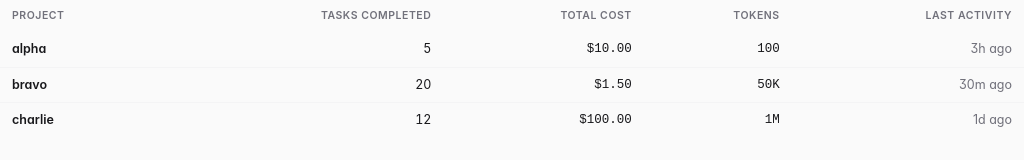
Test: ByProjectTable / sort cycle › second click on the same column sorts descending
Click the button with test id "by-project-table-header-button-project". click: (38, 16)
box: x1=12 y1=8 x2=64 y2=24
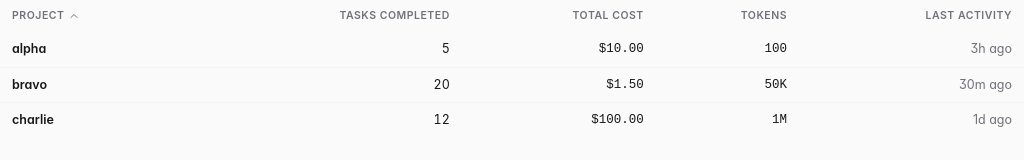
Click the button with test id "by-project-table-header-button-project". click: (46, 16)
box: x1=12 y1=8 x2=80 y2=24
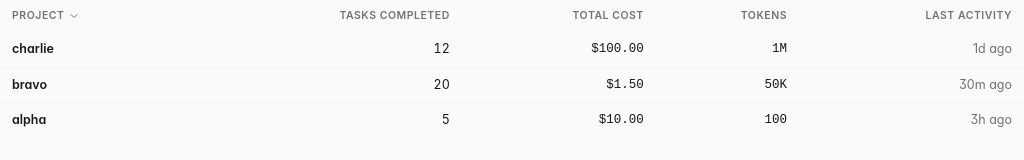
Result: the elements with test id "by-project-table-name" read "charlie", "bravo", "alpha", in this order at x1=12 y1=41 x2=54 y2=56; x1=12 y1=76 x2=47 y2=92; x1=12 y1=112 x2=46 y2=127
